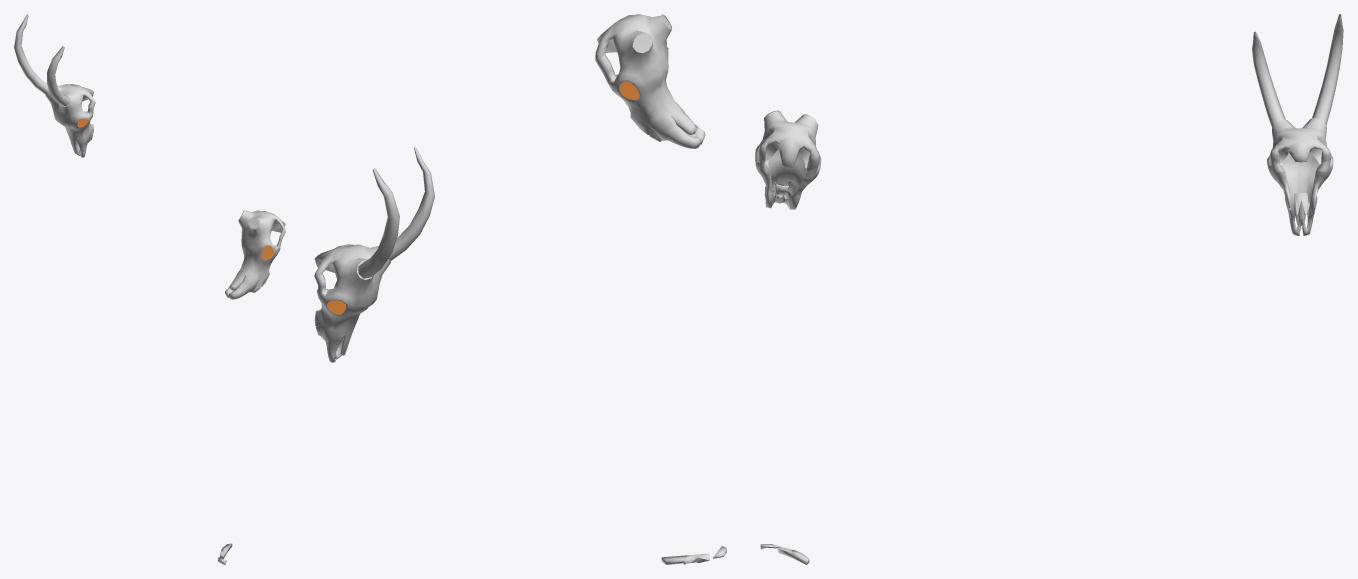
Rendered from sculls.fbx.
3 views of the same model, side by side, from view 1: azimuth 30°, elevation 25°; view 2: azimuth 150°, elevation 25°; view 3: azimuth 270°, elevation 25° (orthographic). The views are drawn at different scales.
Parts seen in each view (by area): view 1: scull 1, scull 2; view 2: scull 1, scull 2, Tooths; view 3: scull 1, scull 2.
Part boxes in pixels (box(x1,y1,x2,y2)): scull 1: box(14, 14, 95, 157); scull 2: box(225, 210, 285, 299); scull 1: box(314, 147, 434, 362); scull 2: box(595, 14, 705, 148); Tooths: box(661, 546, 726, 564); scull 1: box(1252, 14, 1343, 235); scull 2: box(755, 110, 821, 209).
Size of the model in its own units: 64.7 by 338 by 330.
